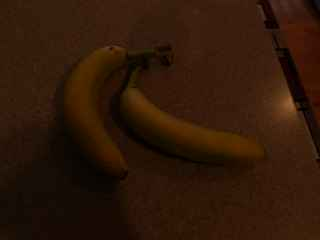banana: (115, 53, 270, 175), (59, 28, 177, 186)
